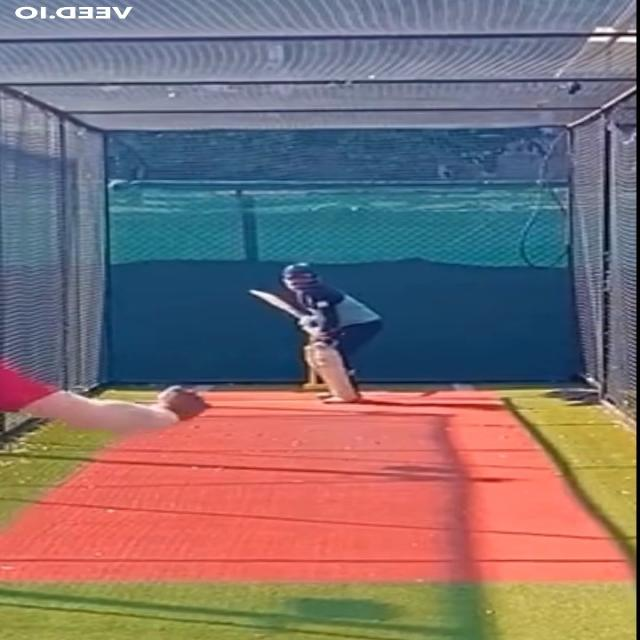ball: (106, 176, 133, 196)
